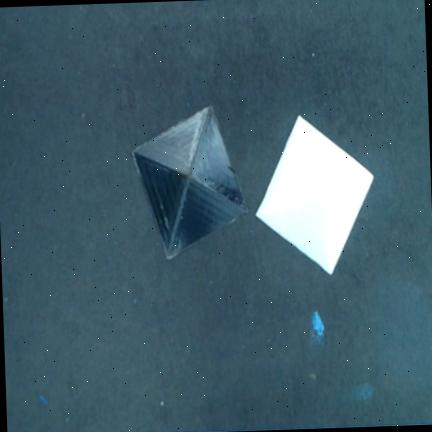Piramide: (257, 116, 373, 274), (133, 106, 247, 258)
